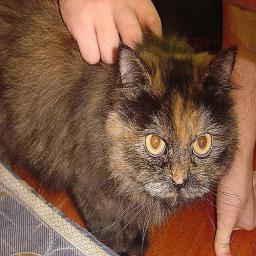catnose: (169, 172, 191, 190)
